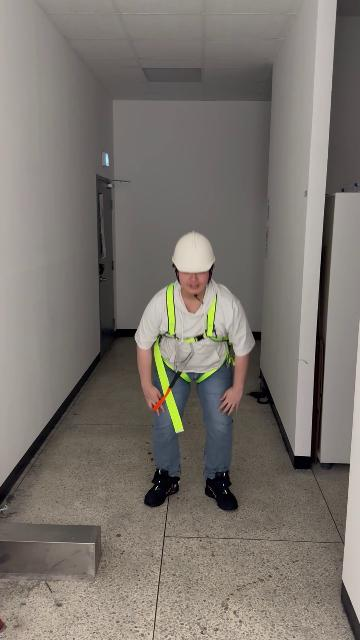helmet_worn: (171, 231, 218, 273)
shoe_worn: (144, 468, 180, 507), (205, 472, 237, 511)
vest_worn: (150, 288, 236, 436)
